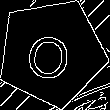O_N: (27, 24, 77, 81)
